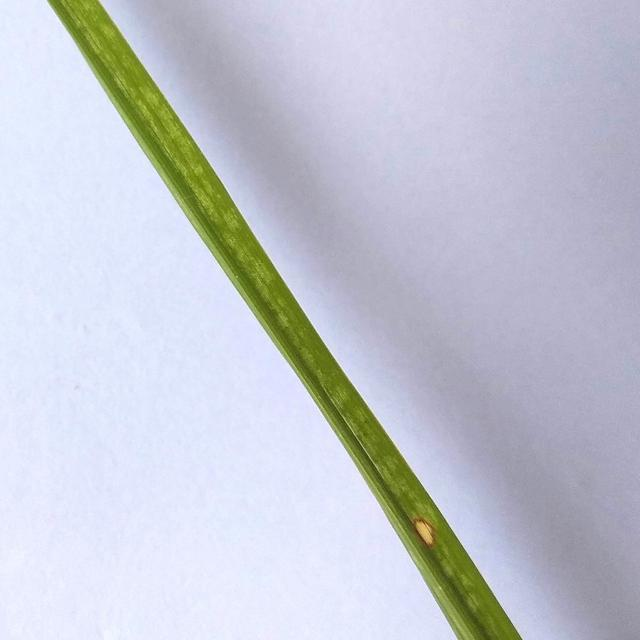Blast: (408, 516, 451, 552)
